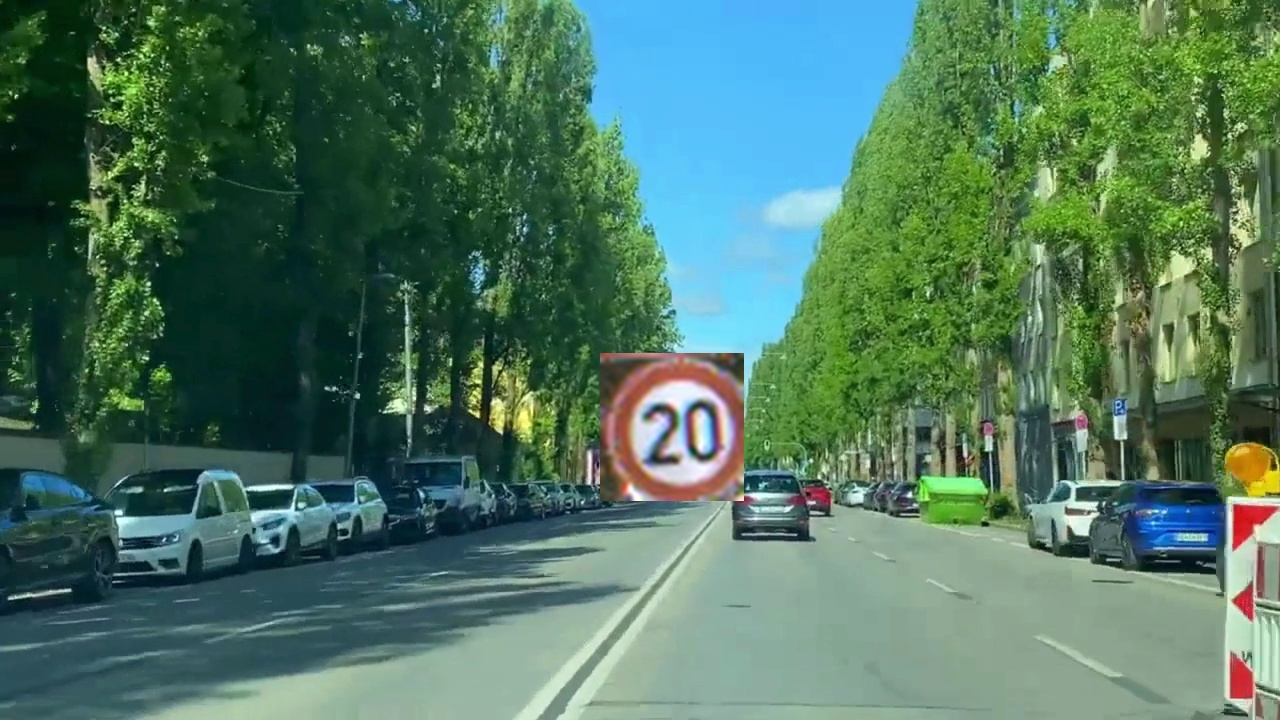Speed 20: (600, 353, 744, 501)
